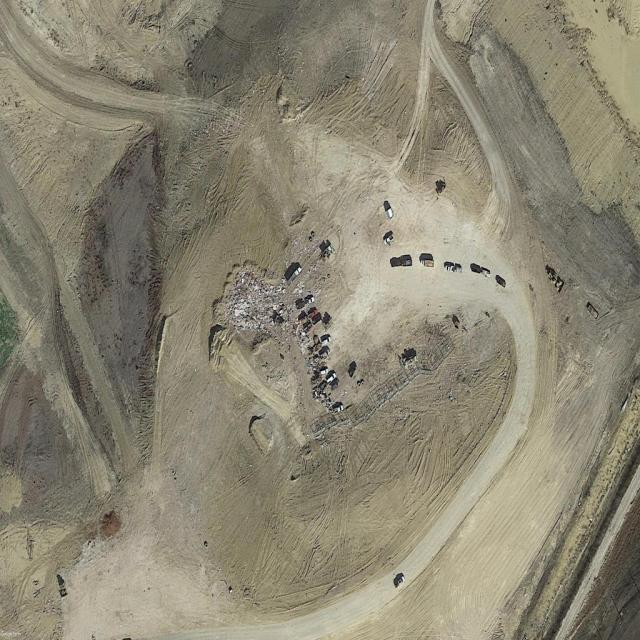dump_site: (223, 260, 294, 353)
